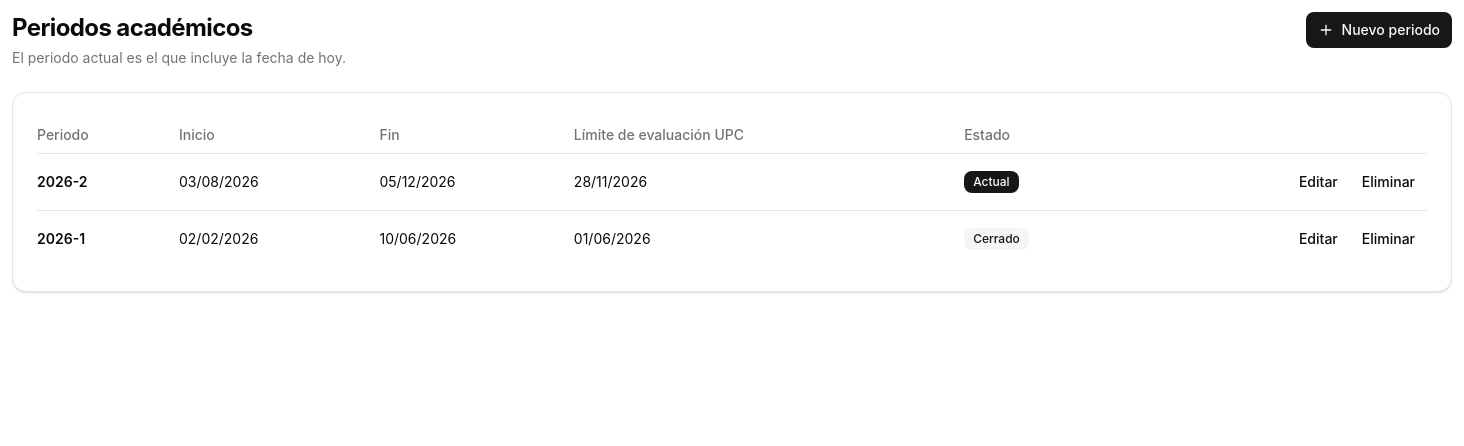
Test: PeriodsPage › edits a period sending its four fields and explains why it cannot be deleted
Step 1. Click the button with aria-label "Editar 2026-2" → coordinates (1318, 182), box [1287,166,1350,198]
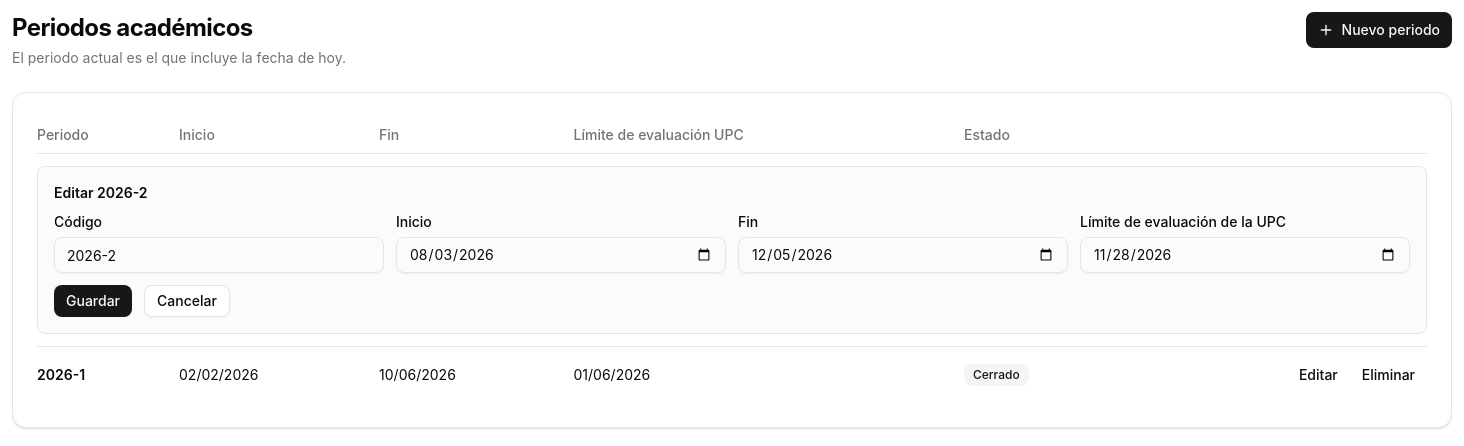
Step 2. Type "2026-11-30" into the date field labelled "Límite de evaluación de la UPC" → coordinates (1245, 255), box [1080,237,1410,273]
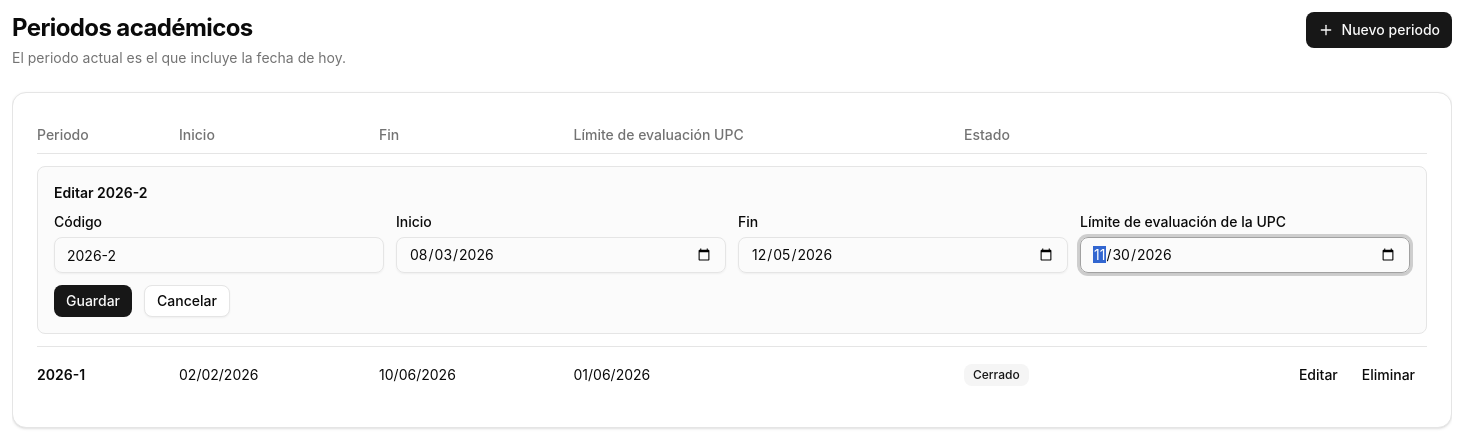
Step 3. Click the button "Guardar" → coordinates (93, 301), box [54,285,132,317]
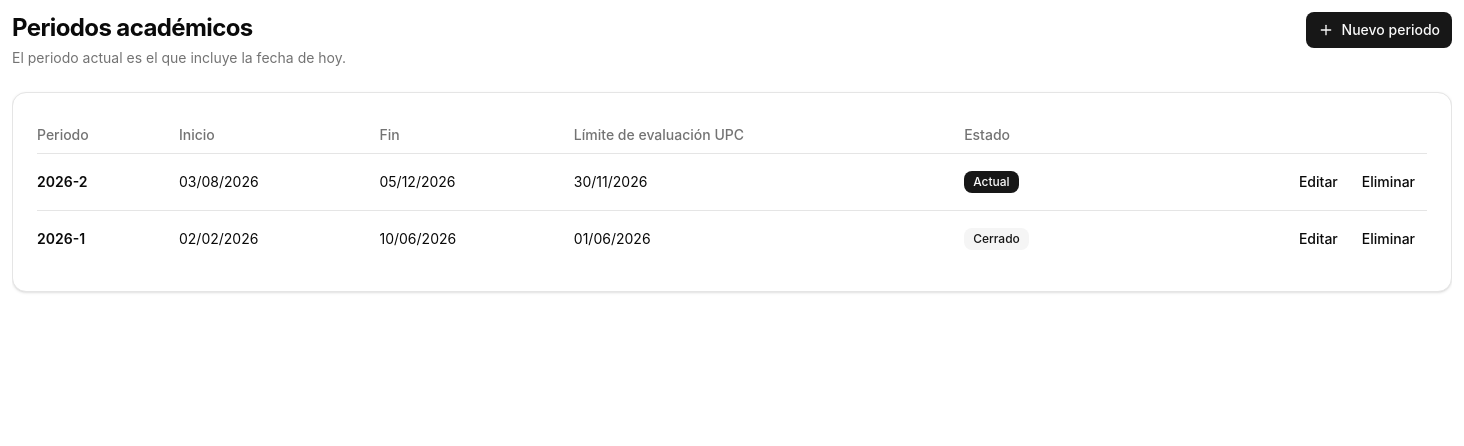
Step 4. Click the button with aria-label "Eliminar 2026-2" → coordinates (1388, 182), box [1350,166,1427,198]
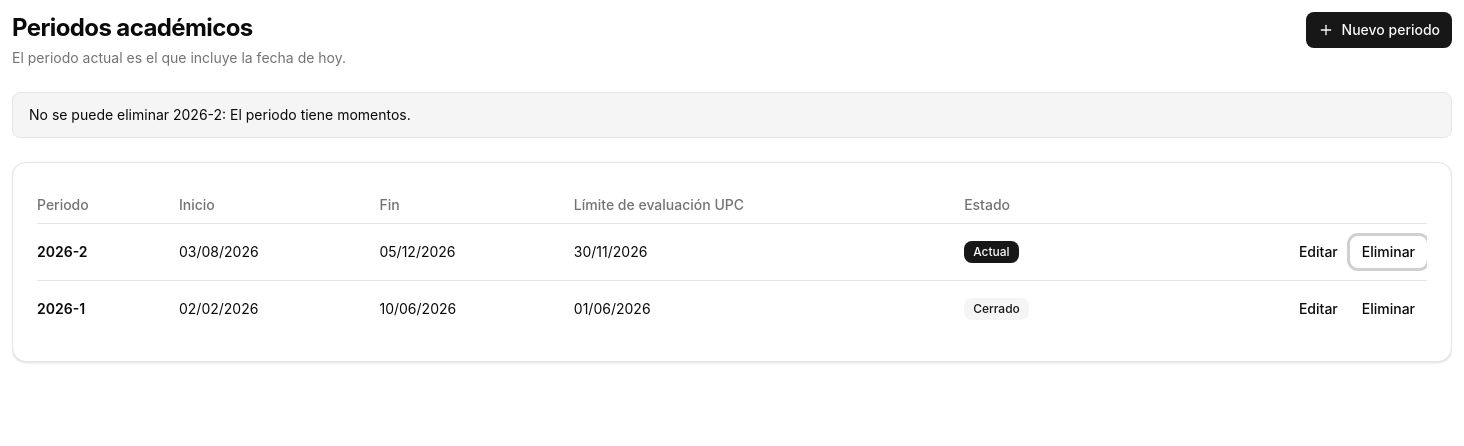
Expected: the message reads "No se puede eliminar 2026-2: El periodo tiene momentos.", [29,106,411,123]
